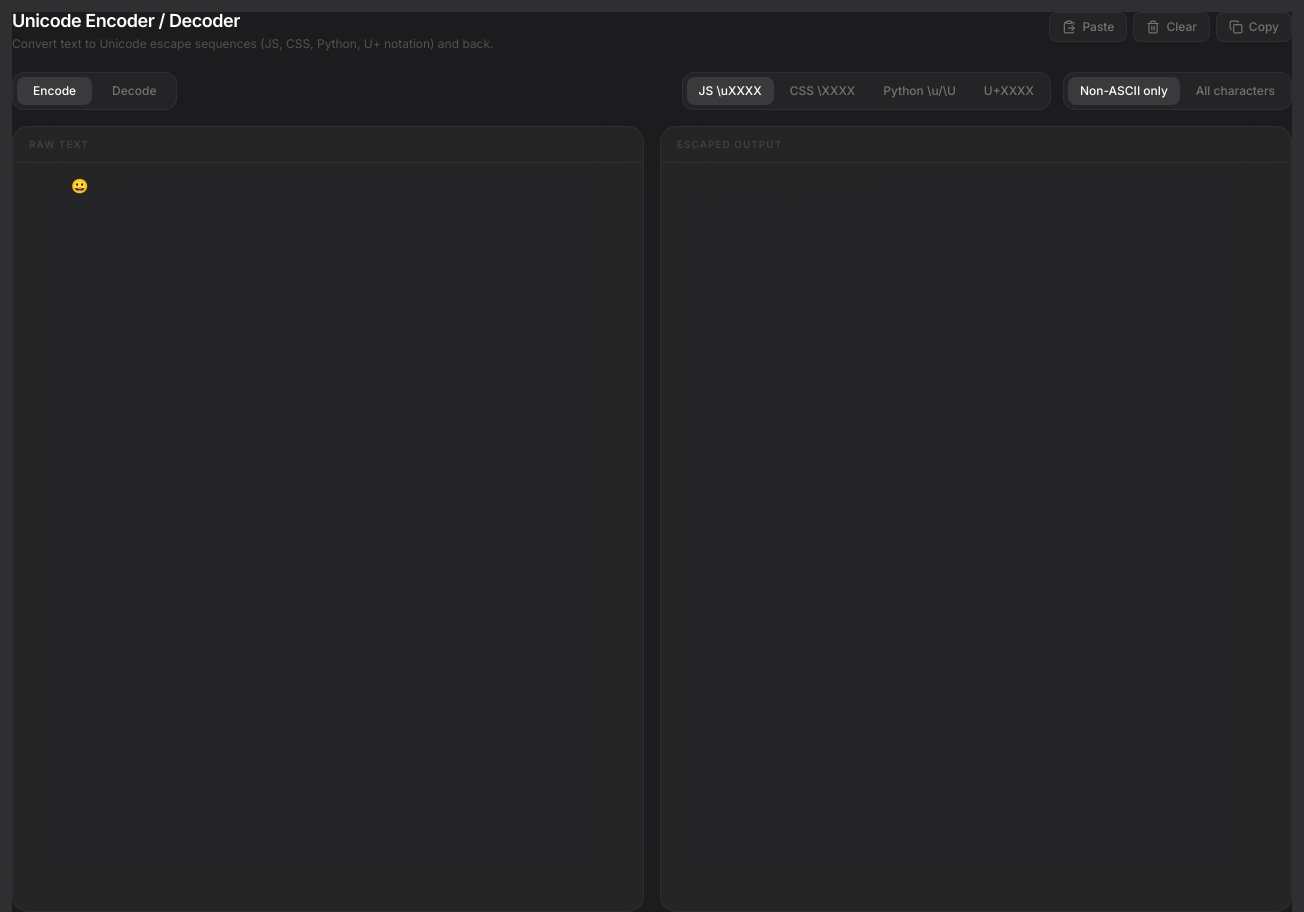
UnicodeEscapeCoder › encodes every character when "All characters" is selected
The image size is (1304, 912).
Click the button "All characters".
click(1235, 91)  # box left=1184, top=77, right=1287, bottom=105
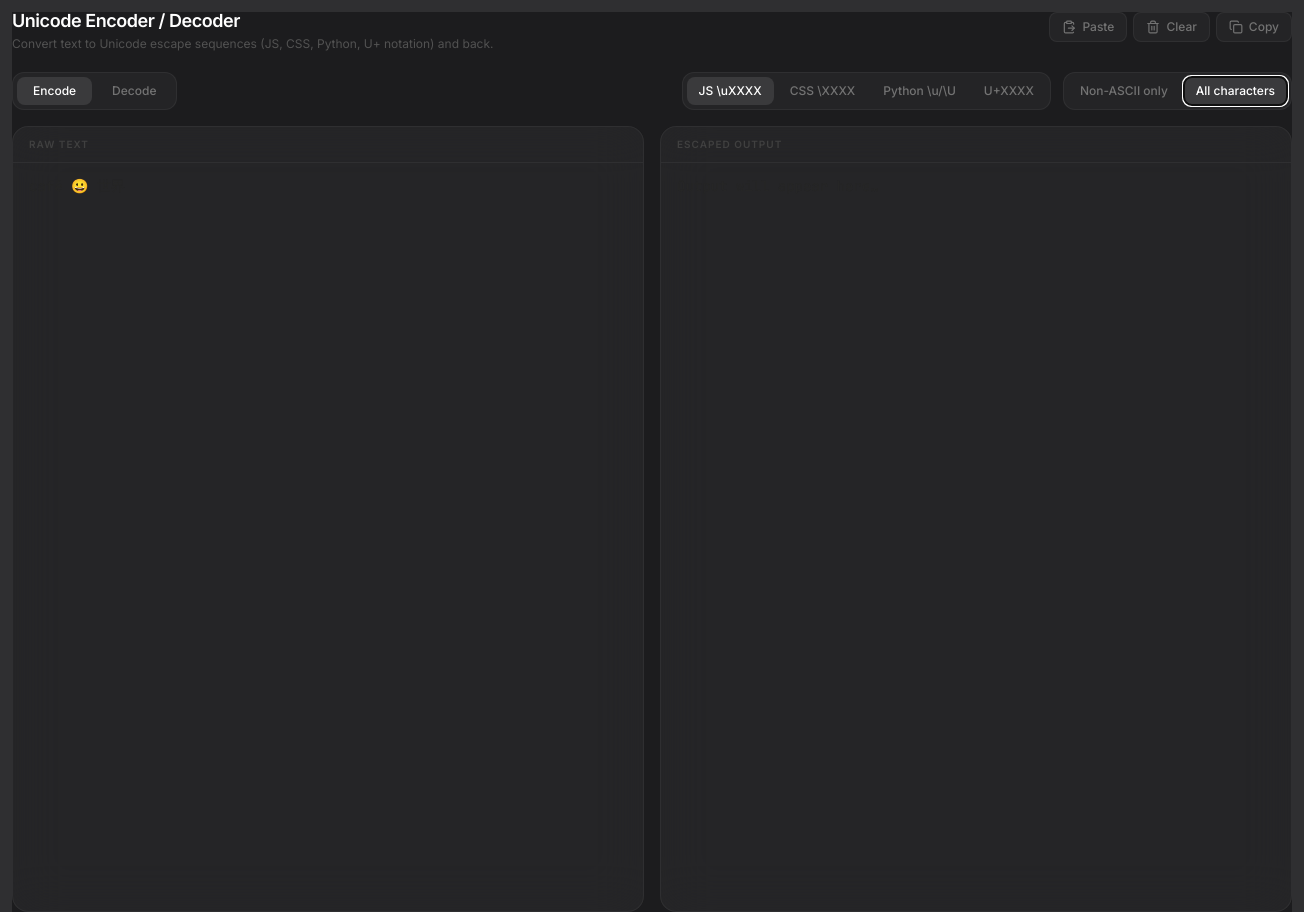
Type "AB" into the text box with placeholder "café 😀 世界".
click(328, 537); type("AB")  # box left=13, top=163, right=643, bottom=911
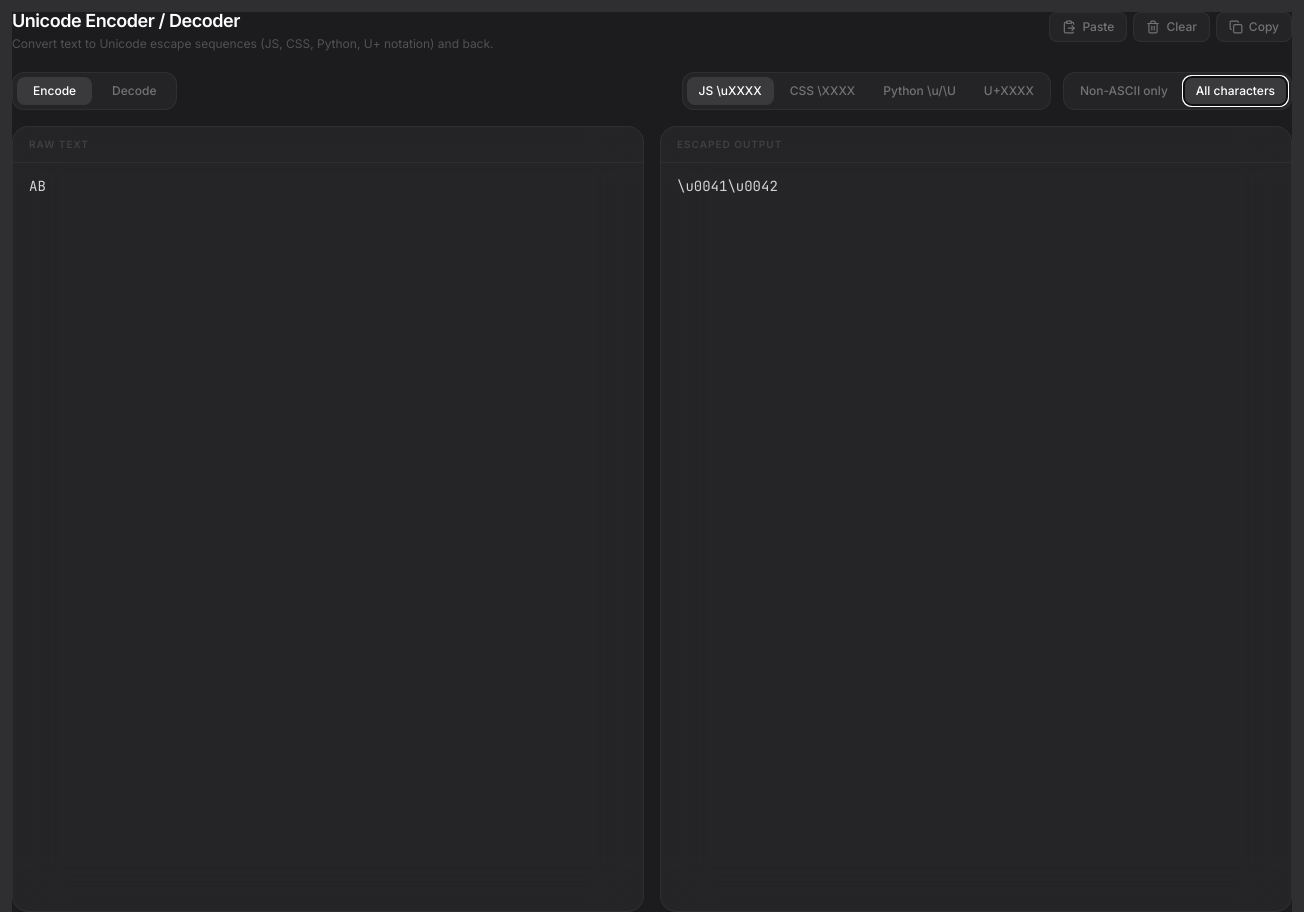
Expected: the text "\\u0041\\u0042" is shown, left=677, top=177, right=778, bottom=195
